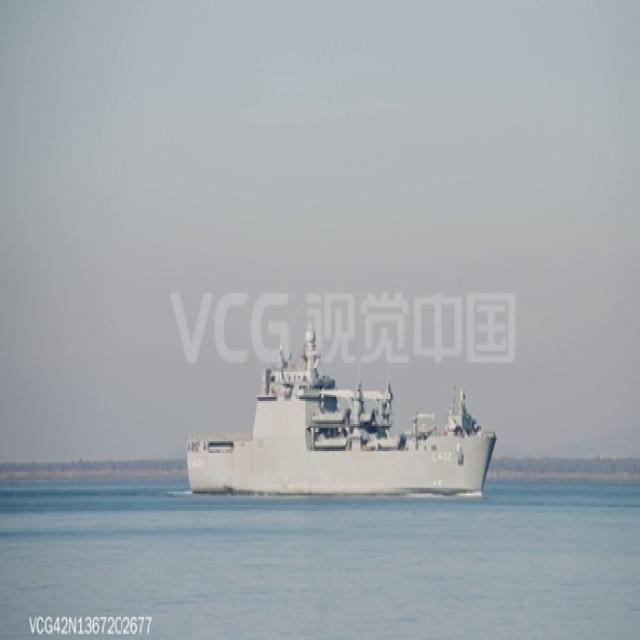navalvessels: (182, 324, 494, 498)
